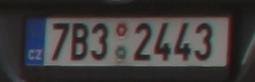2: (133, 23, 152, 61)
3: (90, 23, 108, 63), (195, 22, 212, 60)
4: (173, 23, 192, 62), (153, 23, 172, 61)
7: (51, 21, 71, 62)
B: (72, 21, 88, 62)
